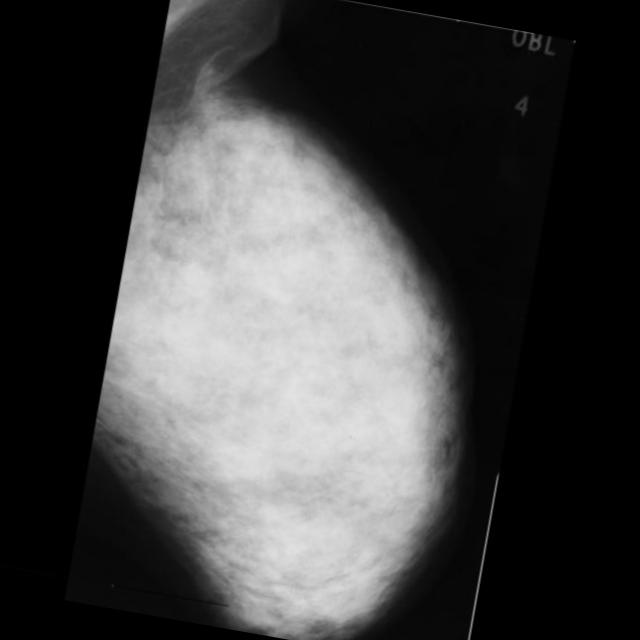CALC: (168, 243, 210, 284)
